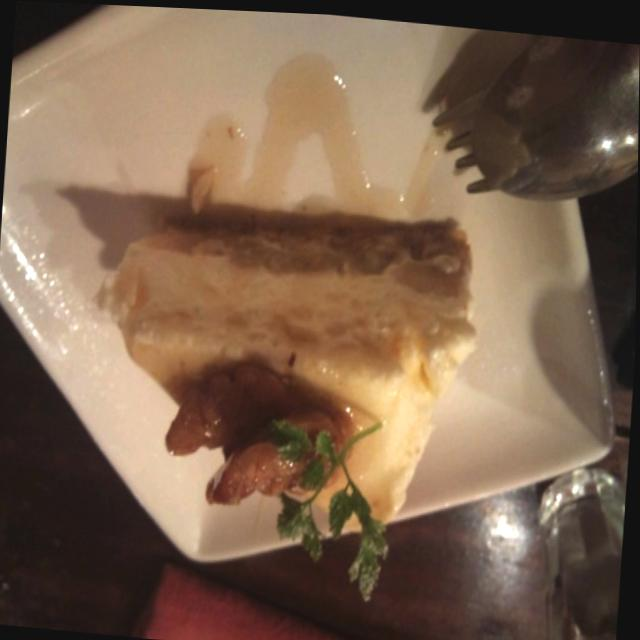鸡蛋料理: (23, 1, 640, 640)
